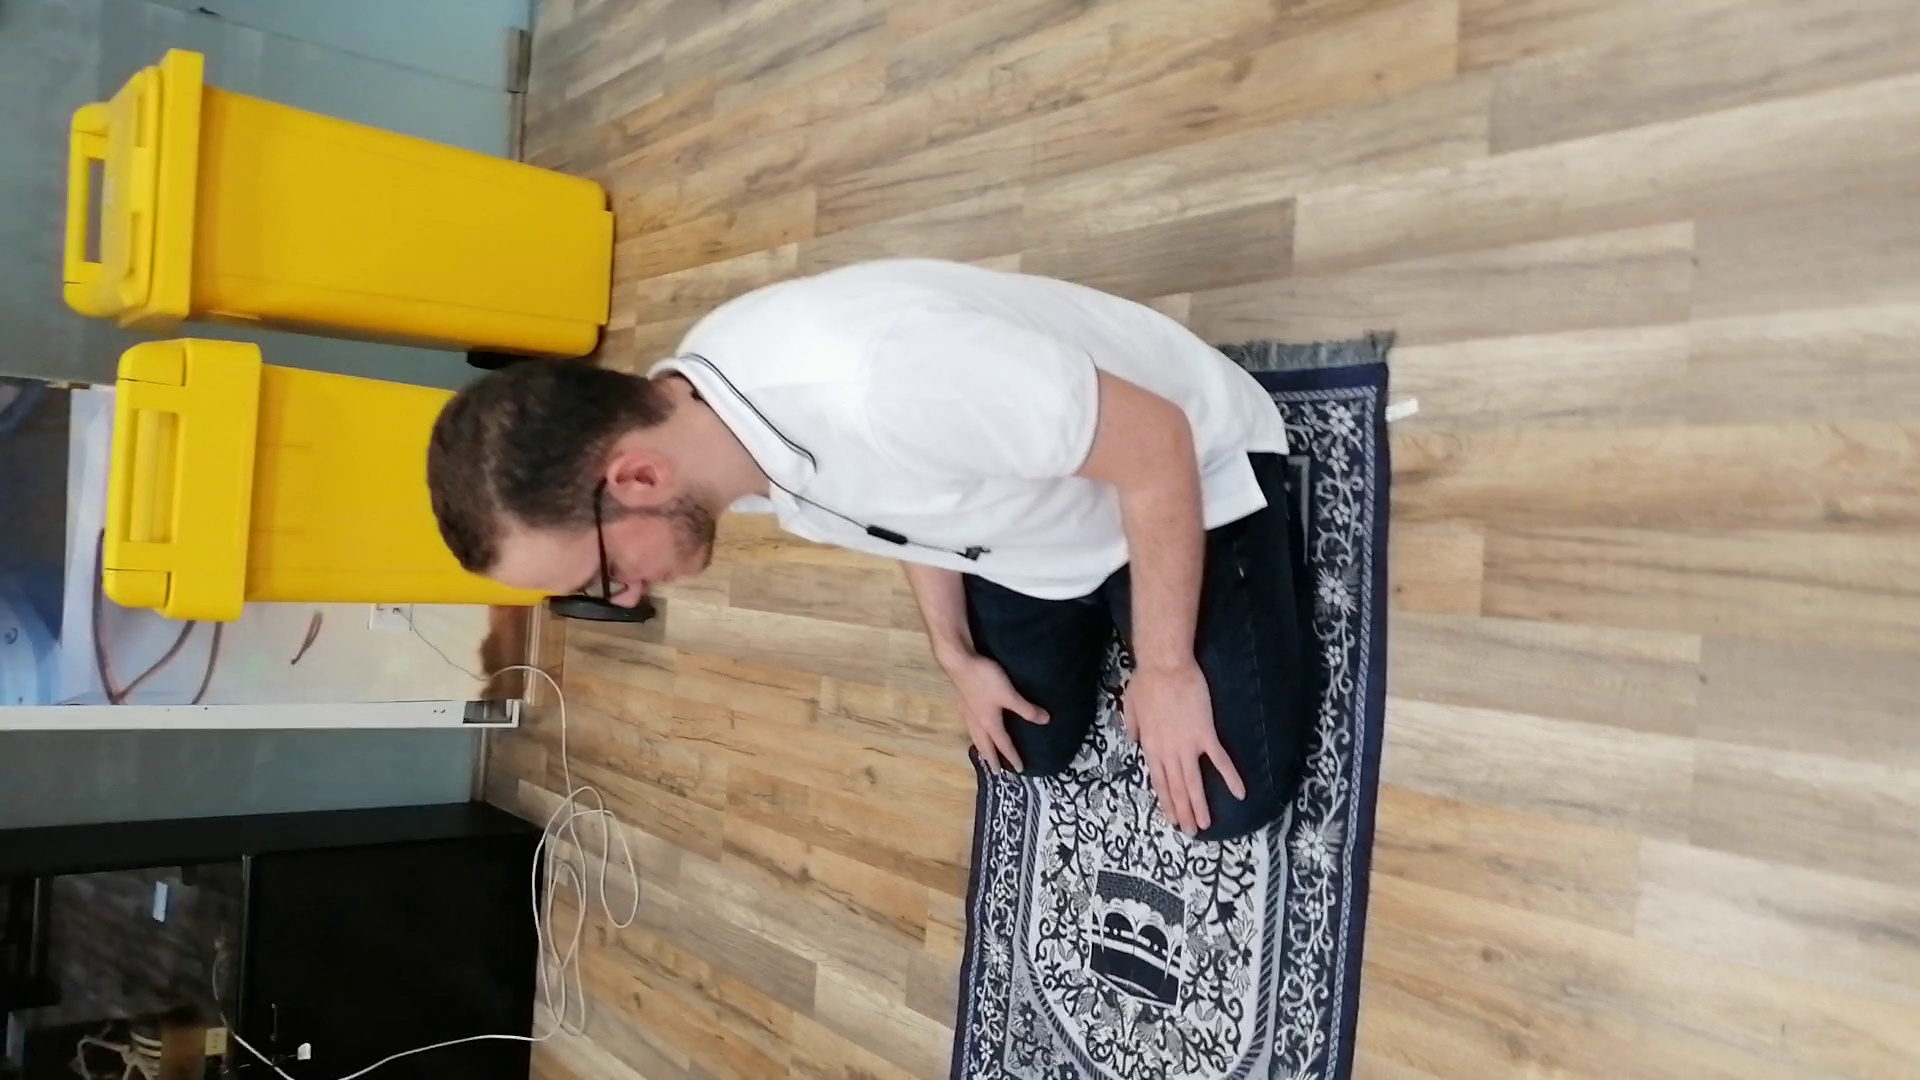sitting: (417, 248, 1338, 853)
